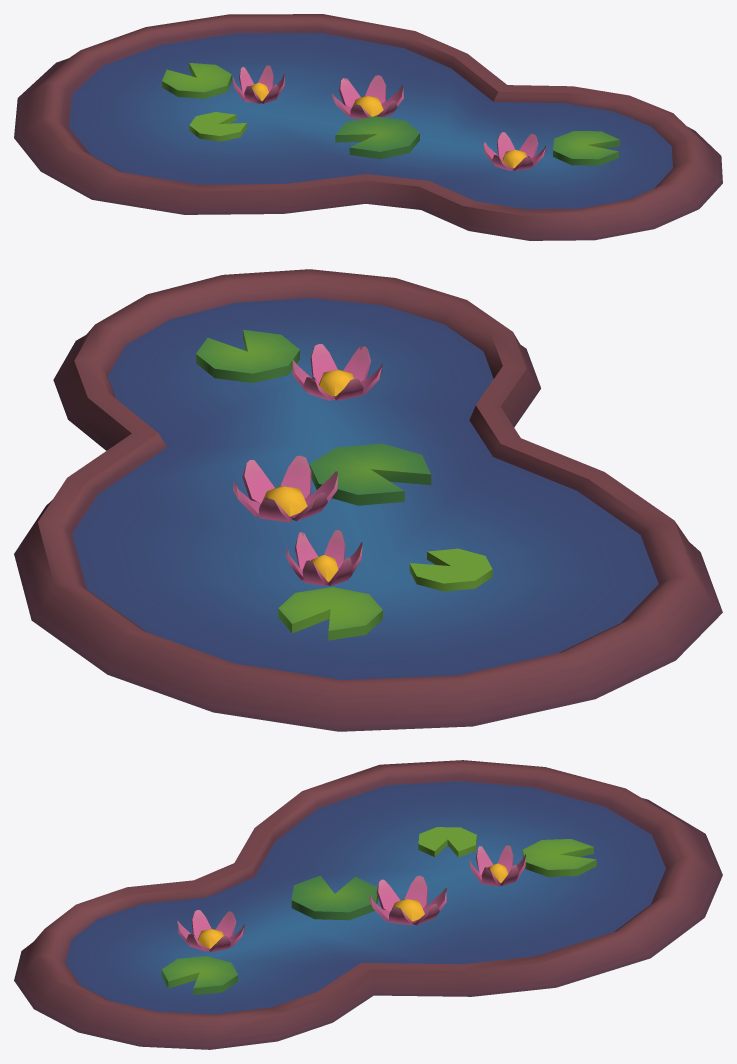
3 views of the same model, one above another, from view 1: azimuth 30°, elevation 25°; view 2: azimuth 150°, elevation 25°; view 3: azimuth 270°, elevation 25° (orthographic). The views are drawn at different scales.
Parts seen in each view (by area): view 1: Pond; view 2: Pond; view 3: Pond.
Part boxes in pixels (x1,y1,x2,y2): Pond: (14,14,722,240); Pond: (14,269,722,731); Pond: (14,760,722,1049).
Size of the model in its own units: 304 by 17.4 by 324.
